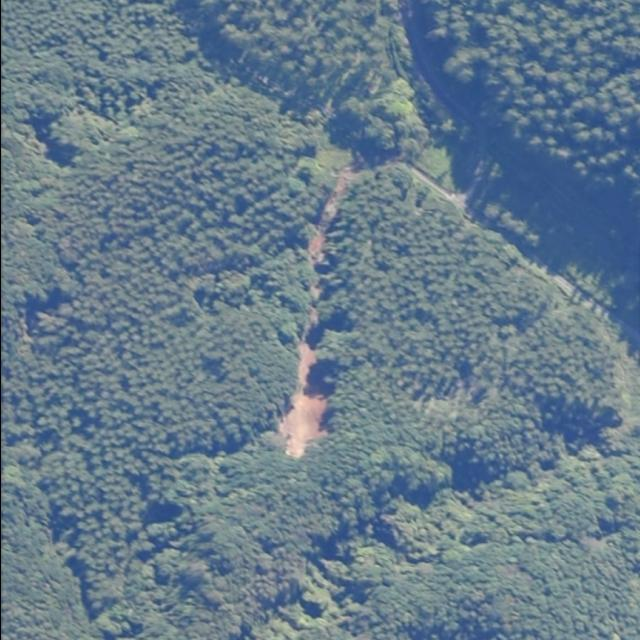landslide: (277, 281, 329, 459), (307, 167, 357, 270)
